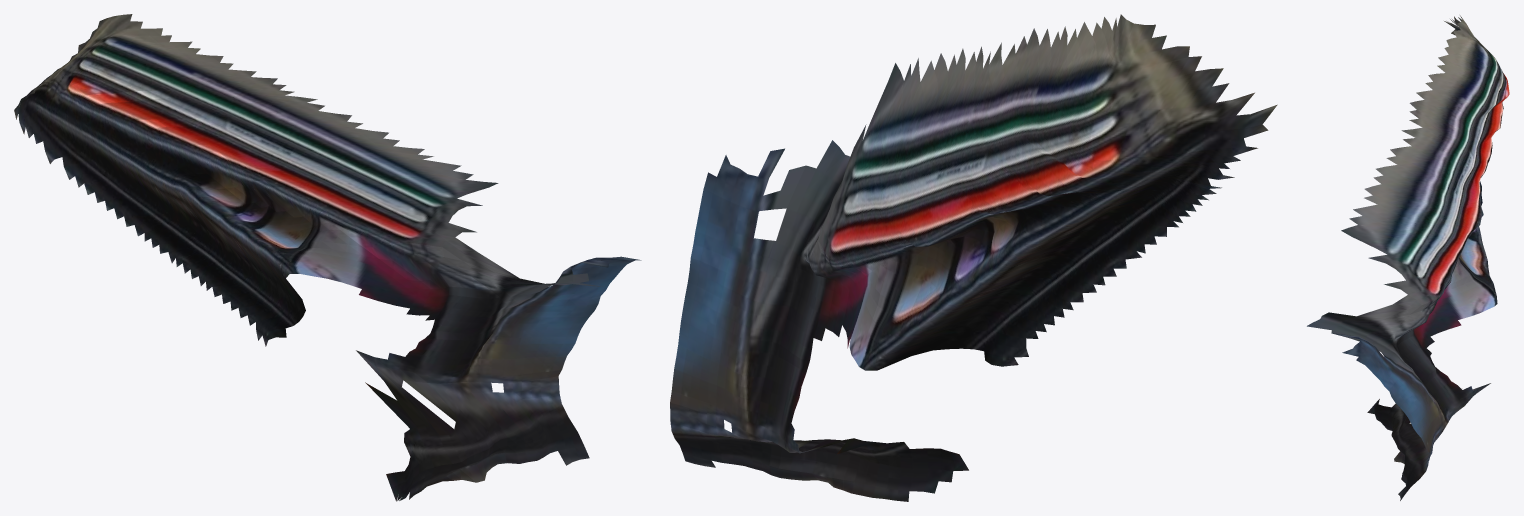
File: observed-surface.glb
3 views of the same model, side by side, from view 1: azimuth 30°, elevation 25°; view 2: azimuth 150°, elevation 25°; view 3: azimuth 270°, elevation 25° (orthographic). The views are drawn at different scales.
Parts seen in each view (by area): view 1: geometry_0; view 2: geometry_0; view 3: geometry_0.
Part boxes in pixels (box(x1,y1,x2,y2)): geometry_0: box(14, 14, 641, 501); geometry_0: box(670, 14, 1277, 501); geometry_0: box(1307, 15, 1509, 500).
Size of the model in its own units: 0.5551 by 0.4952 by 0.2661.
Materials: 1 (1 with a texture image).
